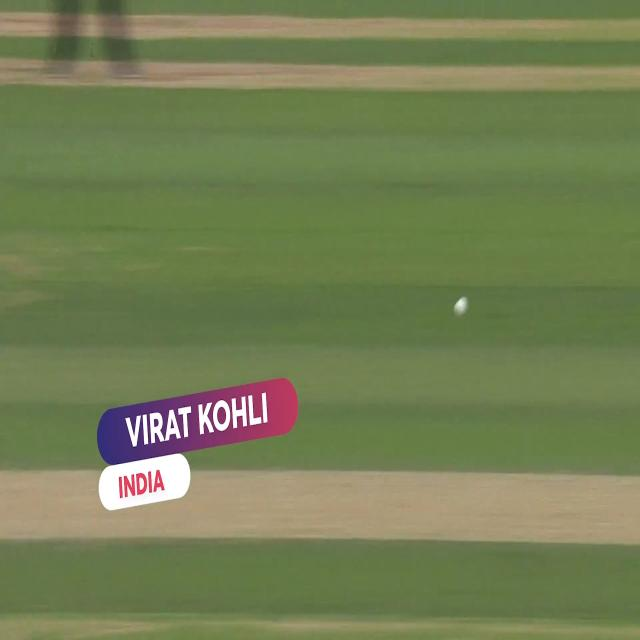ball: (448, 288, 473, 322)
